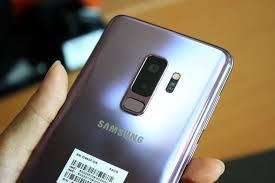samsung: (15, 12, 232, 183)
